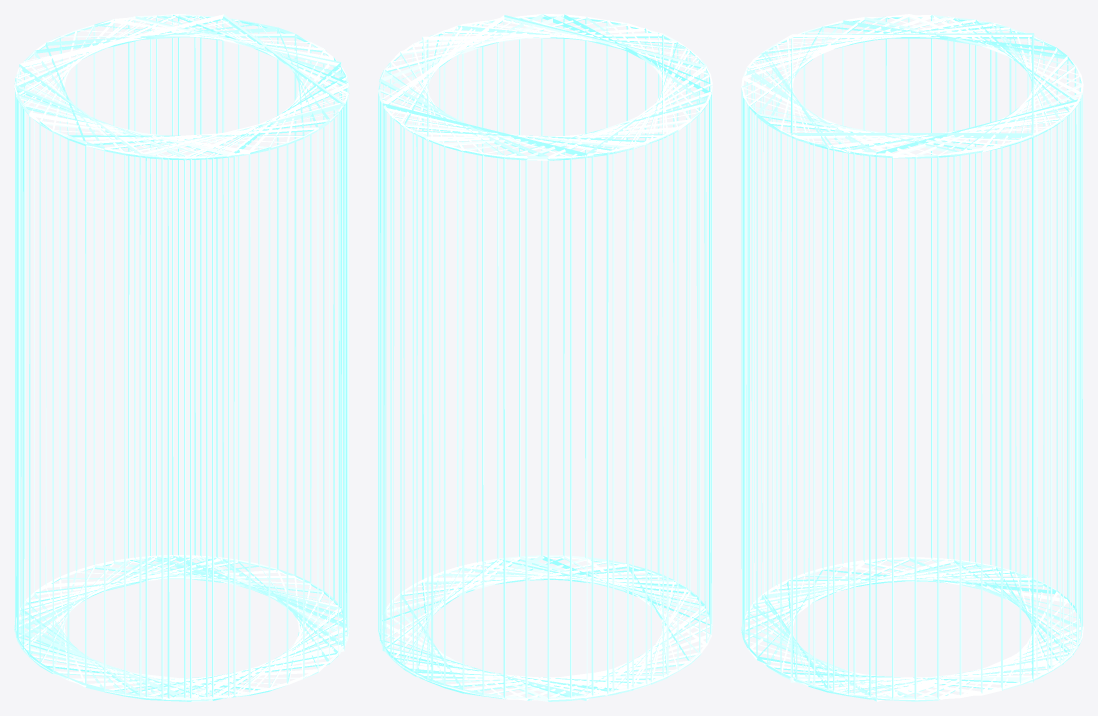
3 views of the same model, side by side, from view 1: azimuth 30°, elevation 25°; view 2: azimuth 150°, elevation 25°; view 3: azimuth 270°, elevation 25° (orthographic).
Visible parts, largest first — view 1: 立方体; view 2: 立方体; view 3: 立方体.
Part boxes in pixels (x1,y1,x2,y2): 立方体: (14, 14, 349, 701); 立方体: (378, 14, 712, 701); 立方体: (741, 14, 1083, 701).
Bounding box in the file's own units: 16.98 × 30.82 × 17.41.
